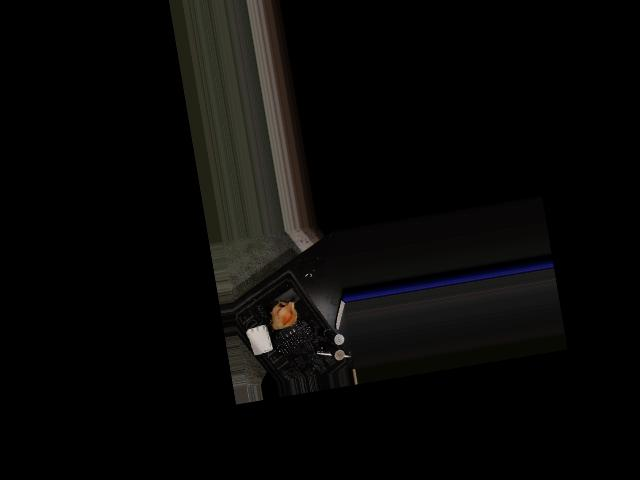onion: (266, 299, 300, 333)
